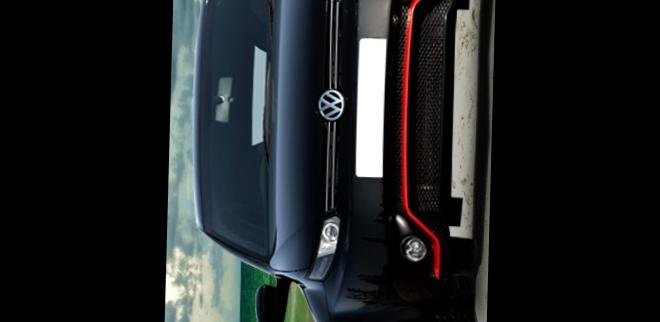plate: (352, 32, 393, 177)
